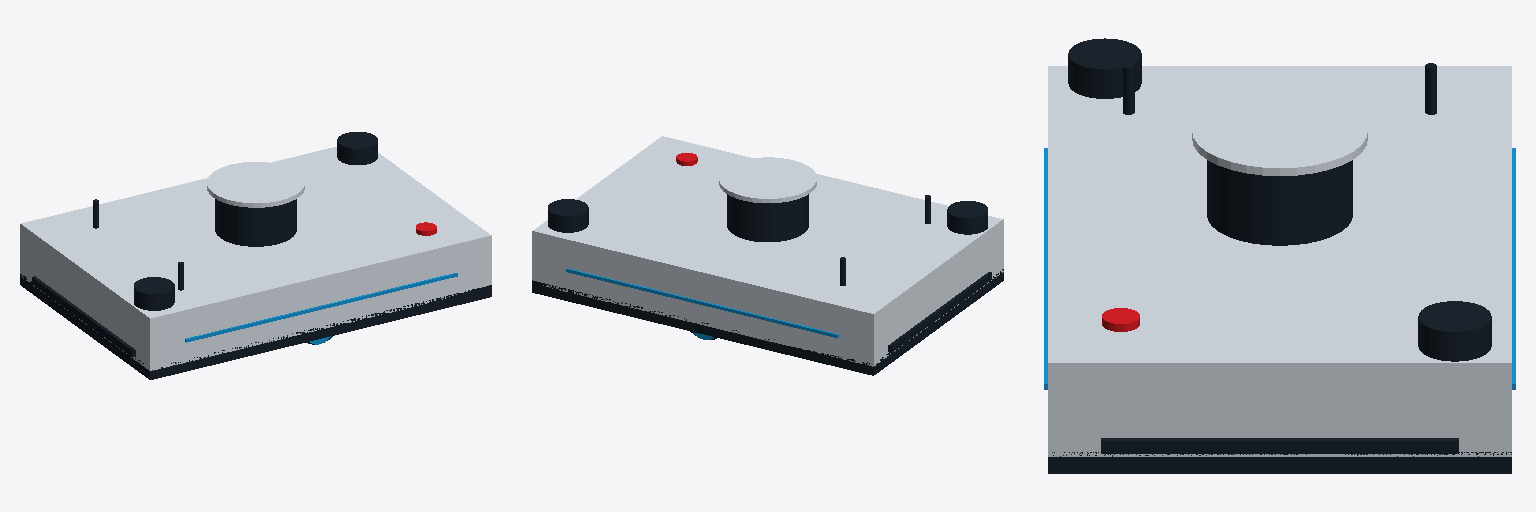
robot.urdf — SEER AMB-CSW04-CE - lightweight visual:
<?xml version='1.0' encoding='utf-8'?>
<robot name="SEER AMB-CSW04-CE - lightweight visual">
  <material name="white">
    <color rgba=".88 .91 .94 1" />
  </material>
  <material name="dark">
    <color rgba=".12 .16 .20 1" />
  </material>
  <material name="blue">
    <color rgba=".10 .63 .89 1" />
  </material>
  <material name="red">
    <color rgba=".90 .13 .16 1" />
  </material>
  <link name="base_link">
    <visual>
      <origin xyz="0.0 0.0 0.11130578512396695" rpy="0 0 0" />
      <geometry>
        <box size="0.9581999999999999 0.6314 0.1413884297520661" />
      </geometry>
      <material name="white" />
    </visual>
    <visual>
      <origin xyz="0.0 0.0 0.0327900826446281" rpy="0 0 0" />
      <geometry>
        <box size="0.9581999999999999 0.6314 0.033090909090909094" />
      </geometry>
      <material name="dark" />
    </visual>
    <visual>
      <origin xyz="0.0 0.0 0.17658512396694215" rpy="0 0 0" />
      <geometry>
        <box size="0.8307434679334916 0.520742268041237 0.010829752066115703" />
      </geometry>
      <material name="white" />
    </visual>
    <visual>
      <origin xyz="0.0 -0.31678487972508584 0.10107768595041323" rpy="0 0 0" />
      <geometry>
        <box size="0.7624631828978623 0.008679037800687284 0.00842314049586777" />
      </geometry>
      <material name="blue" />
    </visual>
    <visual>
      <origin xyz="0.0 0.31678487972508584 0.10107768595041323" rpy="0 0 0" />
      <geometry>
        <box size="0.7624631828978623 0.008679037800687284 0.00842314049586777" />
      </geometry>
      <material name="blue" />
    </visual>
    <visual>
      <origin xyz="-0.48137600950118764 0.0 0.06016528925619835" rpy="0 0 0" />
      <geometry>
        <box size="0.013656057007125891 0.4881958762886598 0.019252892561983474" />
      </geometry>
      <material name="dark" />
    </visual>
    <visual>
      <origin xyz="-0.42361088836104516 -0.23867353951890033 0.1965" rpy="0 0 0" />
      <geometry>
        <cylinder radius="0.05" length=".06" />
      </geometry>
      <material name="dark" />
    </visual>
    <visual>
      <origin xyz="0.48137600950118764 0.0 0.06016528925619835" rpy="0 0 0" />
      <geometry>
        <box size="0.013656057007125891 0.4881958762886598 0.019252892561983474" />
      </geometry>
      <material name="dark" />
    </visual>
    <visual>
      <origin xyz="0.42361088836104516 0.23867353951890033 0.1965" rpy="0 0 0" />
      <geometry>
        <cylinder radius="0.05" length=".06" />
      </geometry>
      <material name="dark" />
    </visual>
    <visual>
      <origin xyz="0.0 -0.29074776632302407 0.0648" rpy="1.5707963267948966 0 0" />
      <geometry>
        <cylinder radius="0.0648" length="0.04" />
      </geometry>
      <material name="dark" />
    </visual>
    <visual>
      <origin xyz="0.0 -0.29074776632302407 0.03888" rpy="1.5707963267948966 0 0" />
      <geometry>
        <cylinder radius="0.03888" length="0.042" />
      </geometry>
      <material name="blue" />
    </visual>
    <visual>
      <origin xyz="0.0 0.29074776632302407 0.0648" rpy="1.5707963267948966 0 0" />
      <geometry>
        <cylinder radius="0.0648" length="0.04" />
      </geometry>
      <material name="dark" />
    </visual>
    <visual>
      <origin xyz="0.0 0.29074776632302407 0.03888" rpy="1.5707963267948966 0 0" />
      <geometry>
        <cylinder radius="0.03888" length="0.042" />
      </geometry>
      <material name="blue" />
    </visual>
    <visual>
      <origin xyz="-0.34140142517814726 -0.21697594501718212 0.0324" rpy="1.5707963267948966 0 0" />
      <geometry>
        <cylinder radius="0.0324" length="0.026" />
      </geometry>
      <material name="dark" />
    </visual>
    <visual>
      <origin xyz="-0.34140142517814726 0.21697594501718212 0.0324" rpy="1.5707963267948966 0 0" />
      <geometry>
        <cylinder radius="0.0324" length="0.026" />
      </geometry>
      <material name="dark" />
    </visual>
    <visual>
      <origin xyz="0.34140142517814726 -0.21697594501718212 0.0324" rpy="1.5707963267948966 0 0" />
      <geometry>
        <cylinder radius="0.0324" length="0.026" />
      </geometry>
      <material name="dark" />
    </visual>
    <visual>
      <origin xyz="0.34140142517814726 0.21697594501718212 0.0324" rpy="1.5707963267948966 0 0" />
      <geometry>
        <cylinder radius="0.0324" length="0.026" />
      </geometry>
      <material name="dark" />
    </visual>
    <visual>
      <origin xyz="0.3527814726840855 -0.21697594501718212 0.18831735537190084" rpy="0 0 0" />
      <geometry>
        <cylinder radius="0.026" length="0.01203305785123967" />
      </geometry>
      <material name="red" />
    </visual>
    <visual>
      <origin xyz="-0.330021377672209 -0.20612714776632302 0.21358677685950414" rpy="0 0 0" />
      <geometry>
        <cylinder radius="0.008" length="0.07821487603305786" />
      </geometry>
      <material name="dark" />
    </visual>
    <visual>
      <origin xyz="-0.330021377672209 0.20612714776632302 0.21358677685950414" rpy="0 0 0" />
      <geometry>
        <cylinder radius="0.008" length="0.07821487603305786" />
      </geometry>
      <material name="dark" />
    </visual>
    <visual>
      <origin xyz="0 0 .242" rpy="0 0 0" />
      <geometry>
        <cylinder radius="0.1" length="0.12" />
      </geometry>
      <material name="dark" />
    </visual>
    <visual>
      <origin xyz="0 0 .302" rpy="0 0 0" />
      <geometry>
        <cylinder radius="0.12" length="0.012" />
      </geometry>
      <material name="white" />
    </visual>
  </link>
</robot>

--- Facts derived from the render (not from the file) ---
Views: 3 orthographic renders of the robot side by side, from view 1: azimuth 30°, elevation 25°; view 2: azimuth 150°, elevation 25°; view 3: azimuth 270°, elevation 25°.
Robot: SEER AMB-CSW04-CE - lightweight visual — 1 links, 0 joints (none); root link base_link; default pose: all joints at 0.
Visible links, largest first — view 1: base_link; view 2: base_link; view 3: base_link.
Boxes of the visible links, x1,y1,x2,y2 form: base_link: (20,132,491,379); base_link: (532,136,1003,375); base_link: (1044,38,1515,473).
Size in the robot's own frame: 0.9764 by 0.6422 by 0.308 metres.
Geometry: primitives only (box / cylinder / sphere), no mesh files.
